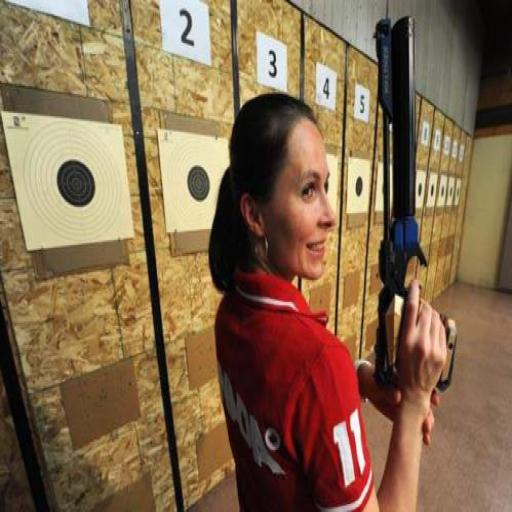shooting: (206, 89, 450, 510)
